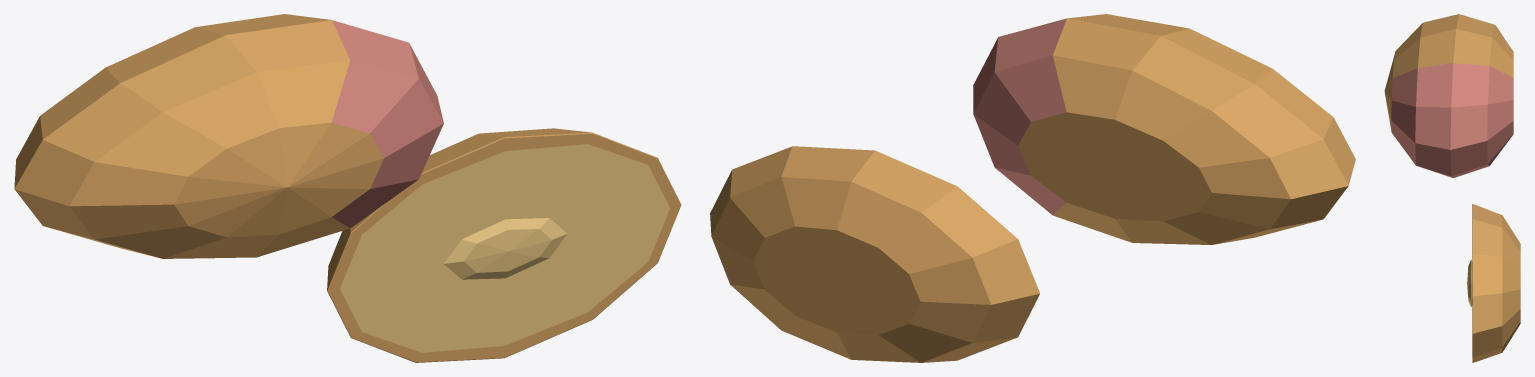
File: Mango_Whole_and_Half.glb
3 renders of one model, left to right at view 1: azimuth 30°, elevation 25°; view 2: azimuth 150°, elevation 25°; view 3: azimuth 270°, elevation 25°, orthographic. The views are drawn at different scales.
Parts seen in each view (by area): view 1: Mango_Whole_and_Half; view 2: Mango_Whole_and_Half; view 3: Mango_Whole_and_Half.
Boxes of the visible parts, <box> form: Mango_Whole_and_Half: <box>14,14,681,362</box>; Mango_Whole_and_Half: <box>710,14,1355,362</box>; Mango_Whole_and_Half: <box>1384,14,1520,362</box>.
Bounding box in the file's own units: 0.1965 × 0.1124 × 0.0588.
